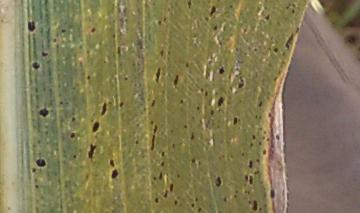tarspot: (283, 32, 294, 50), (87, 142, 97, 159), (25, 19, 36, 32), (34, 157, 47, 168), (213, 174, 223, 188), (149, 133, 156, 153), (154, 66, 162, 82), (91, 121, 100, 135), (236, 76, 245, 90), (38, 106, 49, 117), (99, 102, 107, 117), (215, 32, 223, 47), (172, 73, 179, 88), (209, 4, 217, 17), (216, 96, 225, 107), (262, 12, 271, 22), (110, 169, 118, 180), (31, 61, 40, 70), (108, 158, 116, 168), (217, 65, 225, 75), (269, 187, 275, 200), (168, 182, 175, 193), (162, 188, 169, 199), (40, 50, 49, 58), (252, 199, 258, 211), (248, 174, 254, 186), (152, 123, 158, 135), (249, 133, 257, 142), (189, 130, 195, 141), (68, 132, 76, 140), (89, 26, 97, 34), (271, 46, 279, 54), (60, 27, 68, 35), (208, 108, 216, 116), (186, 1, 193, 10), (69, 115, 76, 124), (232, 116, 238, 126), (158, 169, 163, 181), (159, 48, 165, 58), (116, 45, 121, 57), (110, 31, 116, 41), (85, 73, 92, 81), (70, 153, 78, 160), (274, 133, 281, 141), (202, 15, 209, 23), (272, 75, 279, 83), (221, 22, 226, 33), (212, 23, 218, 32), (247, 160, 253, 169), (261, 147, 267, 156), (243, 173, 249, 182), (118, 101, 125, 108), (30, 167, 37, 174), (133, 138, 140, 145), (122, 75, 129, 82), (170, 142, 177, 149), (51, 37, 58, 44), (253, 169, 260, 176), (254, 157, 261, 164), (257, 100, 263, 108), (150, 99, 156, 107), (33, 182, 39, 190), (290, 7, 296, 15), (242, 26, 248, 34), (248, 141, 254, 149), (256, 140, 262, 148), (265, 136, 271, 144), (169, 127, 175, 135), (253, 45, 258, 54), (153, 196, 159, 203), (190, 157, 196, 164), (159, 160, 165, 167), (156, 19, 162, 26), (183, 62, 190, 68), (203, 90, 209, 97), (227, 3, 234, 9), (182, 123, 188, 130), (196, 206, 202, 213), (135, 122, 141, 129), (234, 46, 240, 53), (102, 57, 108, 64), (281, 50, 287, 57), (262, 5, 268, 12), (43, 1, 49, 8), (267, 110, 272, 118), (190, 201, 195, 209), (222, 195, 227, 203), (295, 26, 300, 34), (151, 175, 157, 181), (257, 126, 263, 132), (173, 199, 178, 206), (160, 150, 165, 157), (199, 86, 204, 93), (195, 104, 200, 111), (175, 172, 180, 179), (85, 48, 90, 55), (247, 199, 252, 206), (254, 112, 258, 120), (179, 98, 184, 104), (148, 119, 153, 125), (58, 100, 63, 106), (240, 151, 245, 157), (284, 5, 290, 10), (232, 193, 237, 199), (262, 129, 267, 135), (258, 114, 262, 121), (291, 2, 296, 7), (194, 196, 199, 201), (263, 1, 269, 3)
